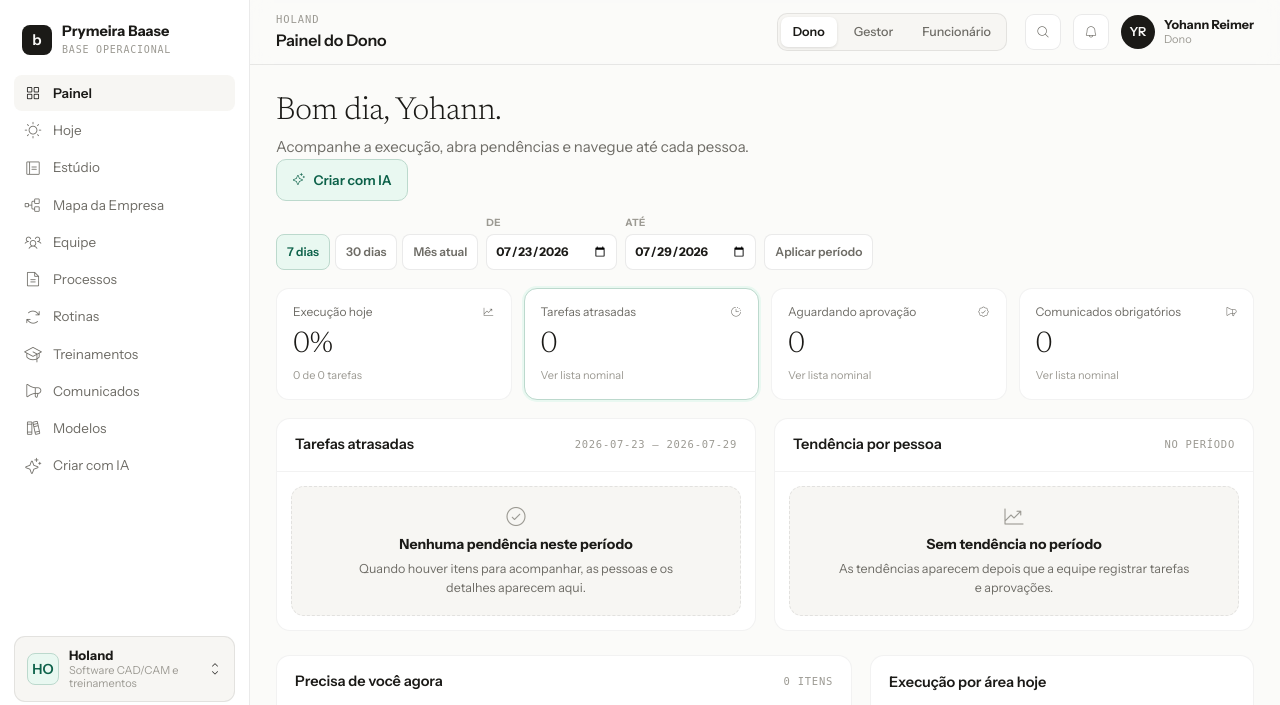
it: Baase React app shell › shows routine occurrences in Hoje and replaces orphaned area ids with a clear label
Click the link "Hoje": (53, 130) 24,121 -> 82,139
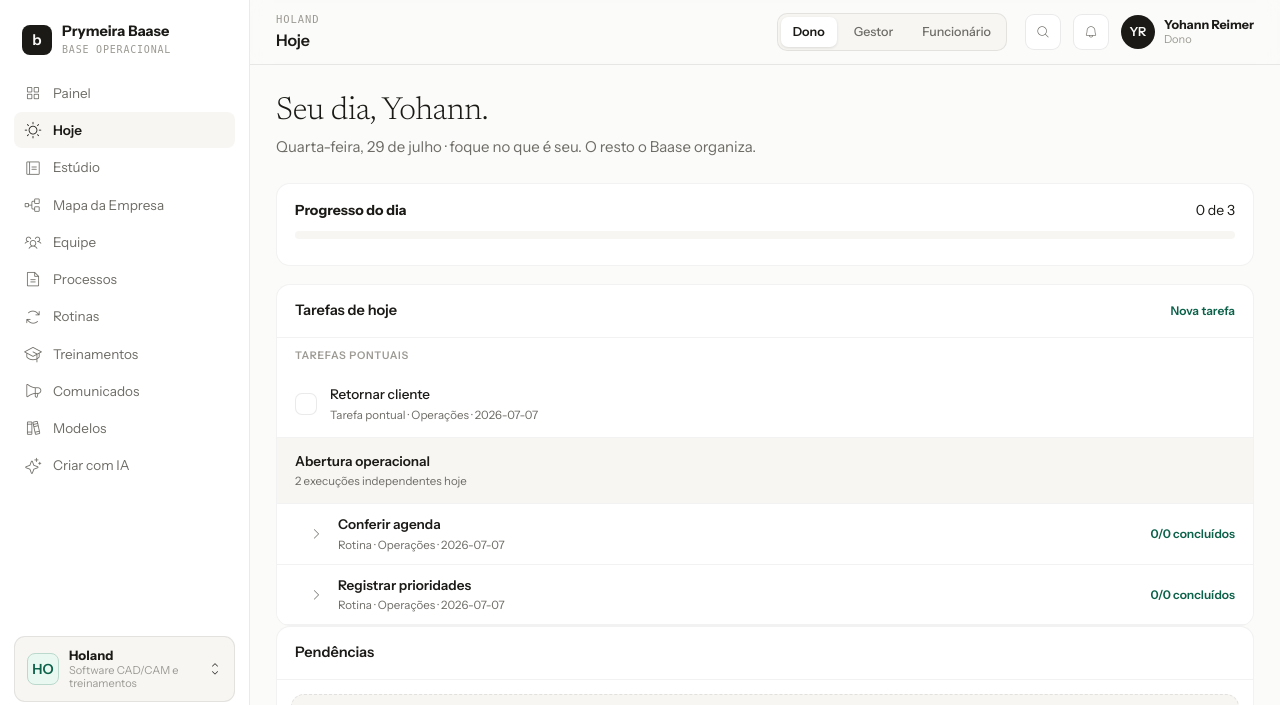
Check: the text "2 execuções independentes hoje" is shown, box 295,474 -> 467,488
Check: the text "Conferir agenda" is shown, box 338,516 -> 441,532
Check: the text "Registrar prioridades" is shown, box 338,577 -> 471,593
Click the link "Processos": (70, 279) 24,270 -> 117,288
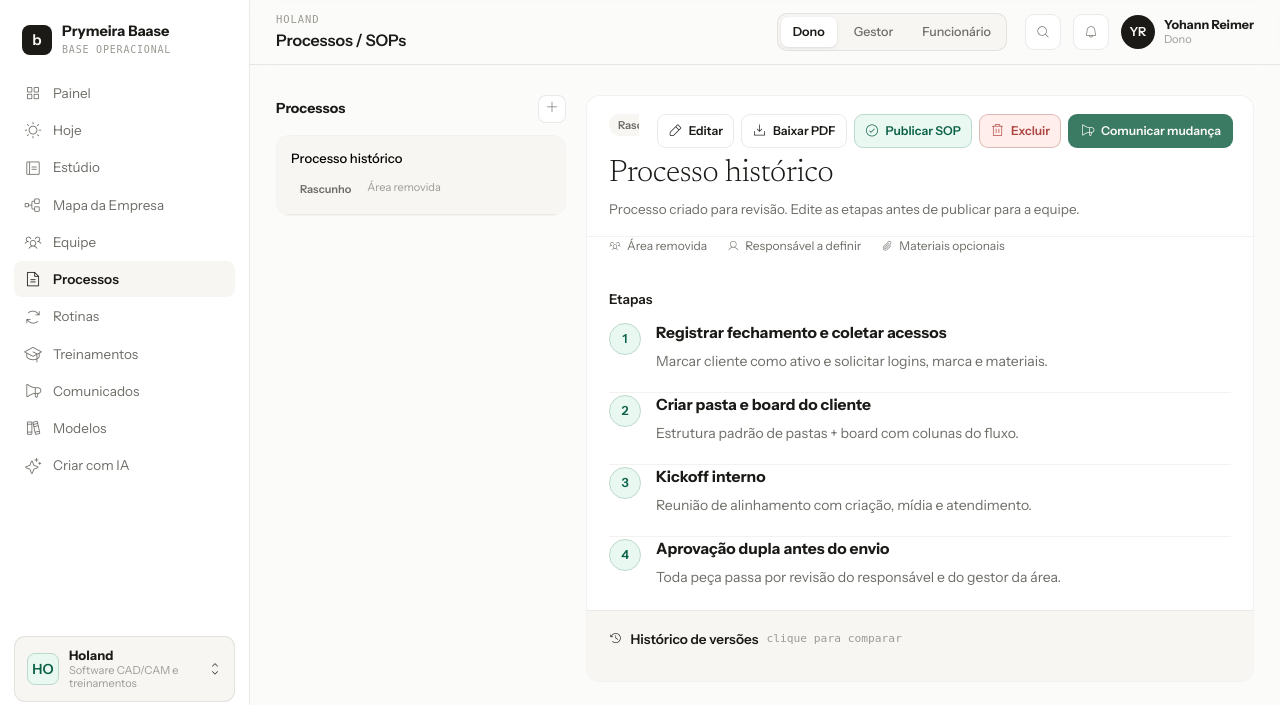
Check: the text "Área removida" is shown, box 367,179 -> 441,195
Click the link "Rotinas": (62, 317) 24,308 -> 99,326
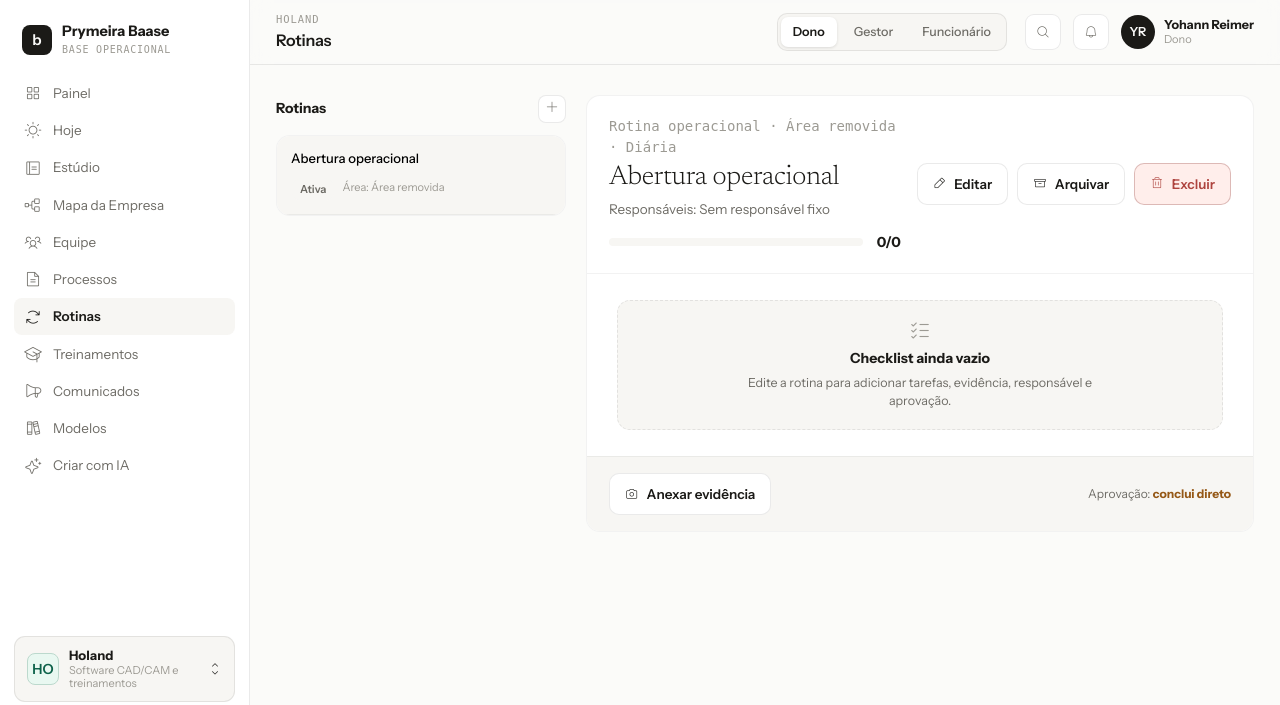
Check: the text "Área: Área removida" is shown, box 342,179 -> 445,195
